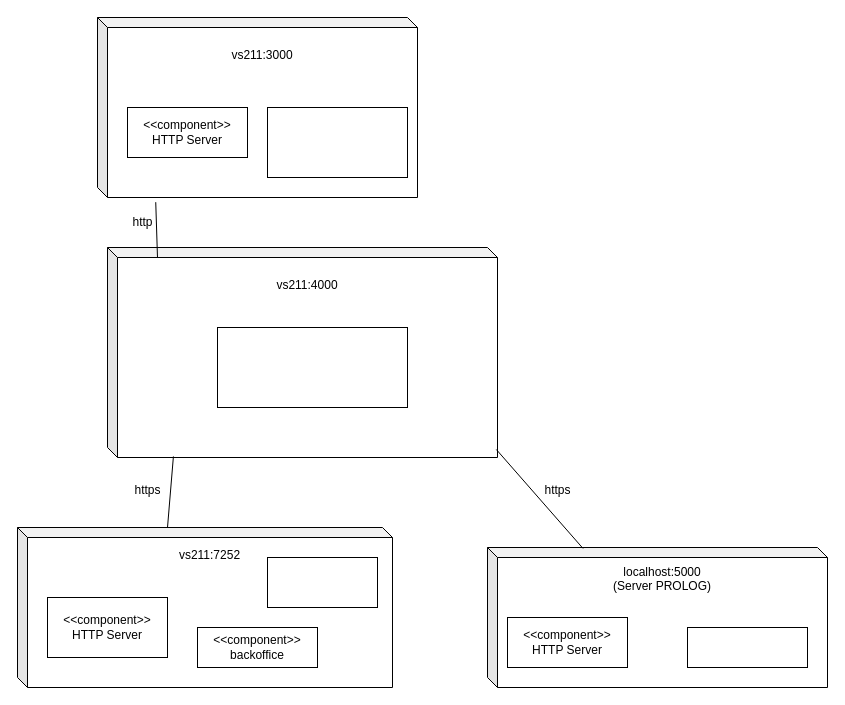
The diagram is 845 pixels wide and 705 high, and some of its shapes have lost their labels. Each missing label, with the centre of its shape:
"<<component>> FE" goes at (x=312, y=367).
"<<component>> planning" goes at (x=747, y=647).
"<<DB>> MongoDB" goes at (x=337, y=142).
"<<DB>> MySql" goes at (x=322, y=582).
